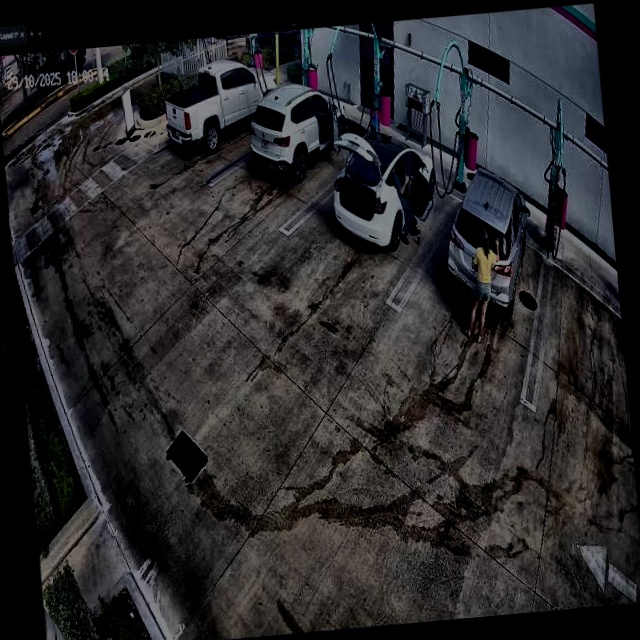Car: (440, 164, 539, 327), (326, 125, 442, 257), (161, 52, 284, 160), (243, 77, 352, 185)
